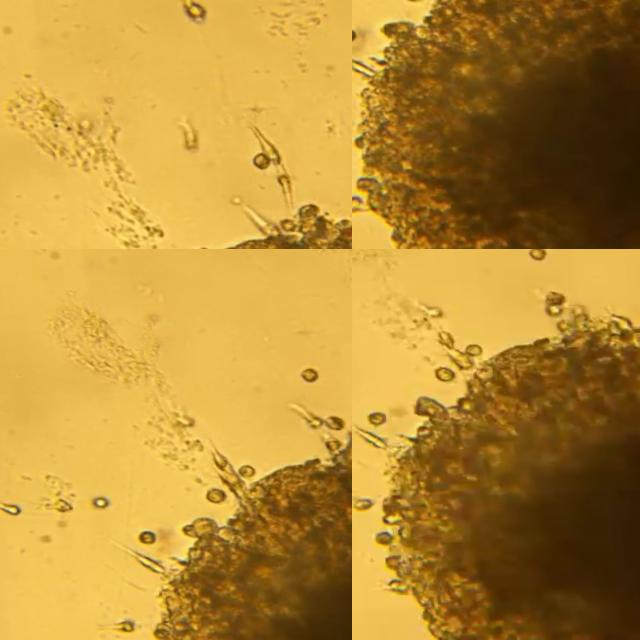cell: (247, 122, 276, 160), (285, 399, 319, 427), (440, 346, 468, 370), (354, 426, 384, 448), (275, 170, 291, 206), (39, 494, 70, 512), (414, 299, 440, 319), (361, 409, 385, 427), (297, 362, 320, 380), (322, 411, 345, 427), (201, 485, 222, 502), (182, 0, 204, 16), (436, 326, 452, 348), (435, 364, 454, 382), (133, 530, 154, 544), (110, 618, 131, 632), (250, 152, 265, 169), (352, 495, 367, 509), (526, 249, 545, 260), (236, 461, 252, 474), (463, 342, 481, 353), (0, 503, 16, 515), (88, 495, 104, 507), (192, 243, 208, 249)
tumor_mass: (368, 290, 640, 640), (148, 424, 352, 640)
